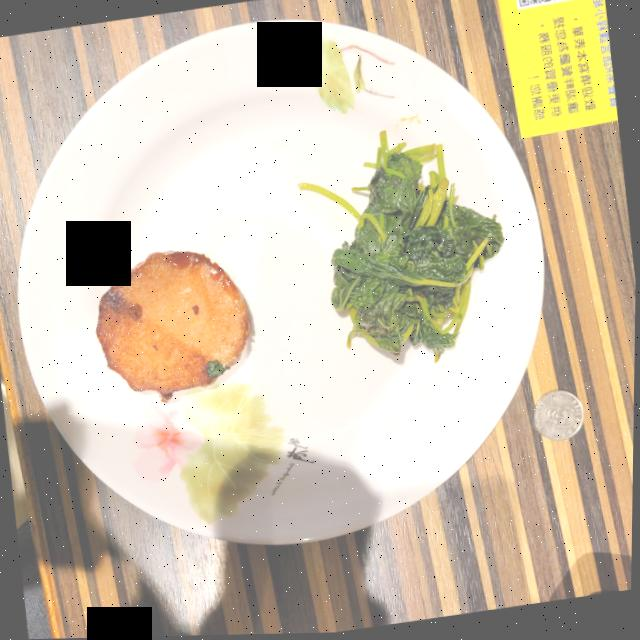Spam: (96, 252, 249, 403)
coin: (533, 392, 584, 443)
sweet potato leaves: (297, 133, 504, 362)
